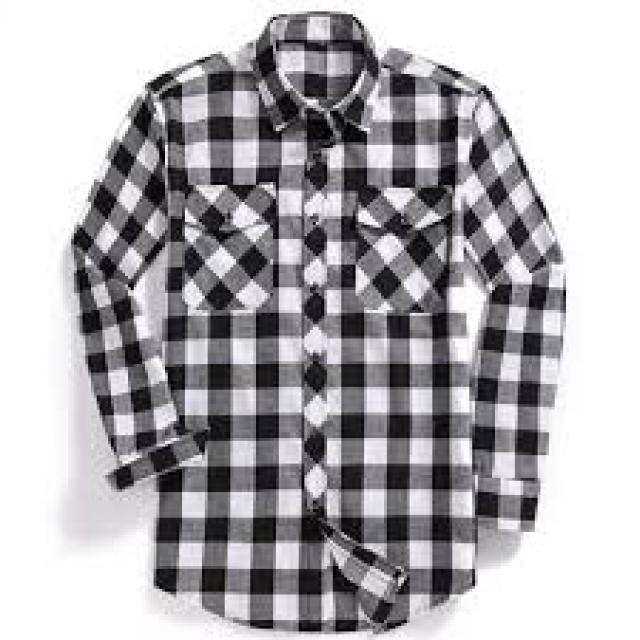plaid: (68, 9, 568, 636)
